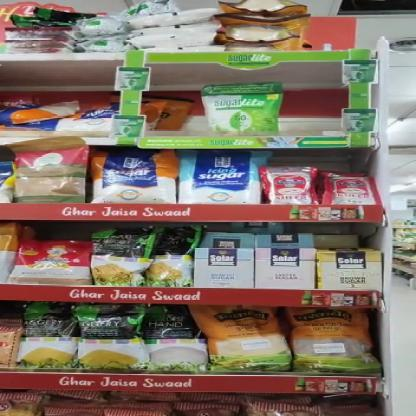SUGARLITE POUCH 500G: (202, 82, 286, 137)
